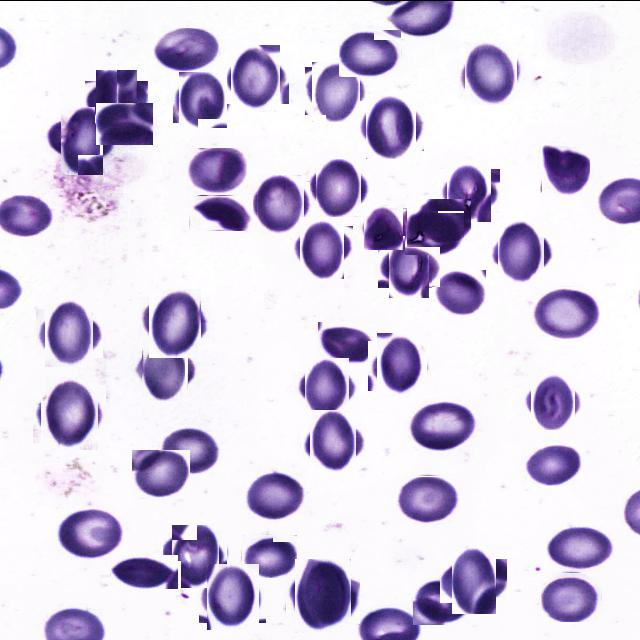red blood cell: (36, 380, 102, 446), (290, 562, 356, 628), (144, 292, 206, 352), (56, 506, 126, 559), (533, 286, 604, 338), (408, 400, 477, 452), (203, 566, 262, 626), (542, 524, 618, 570), (462, 43, 520, 101), (372, 336, 430, 394), (41, 304, 98, 362), (227, 49, 284, 107), (362, 96, 419, 154), (492, 224, 550, 280), (242, 470, 306, 520), (396, 475, 462, 523), (160, 424, 222, 475), (54, 112, 110, 168), (167, 528, 223, 583), (305, 414, 361, 469), (446, 552, 501, 608), (541, 571, 602, 621), (339, 28, 402, 76), (138, 340, 192, 396), (186, 146, 248, 194), (308, 64, 363, 118), (132, 450, 190, 500), (176, 71, 229, 125), (295, 220, 348, 274), (154, 27, 219, 71), (521, 440, 584, 485), (254, 178, 308, 230), (442, 164, 496, 216), (301, 362, 354, 414), (312, 161, 364, 213), (90, 75, 142, 127), (432, 270, 486, 320), (413, 578, 471, 624), (384, 240, 434, 292), (405, 210, 464, 254), (527, 376, 578, 426), (541, 144, 591, 194), (242, 533, 298, 577), (318, 321, 376, 363), (94, 102, 152, 144), (418, 197, 472, 241), (189, 194, 254, 230), (111, 554, 178, 588), (362, 205, 404, 248)
